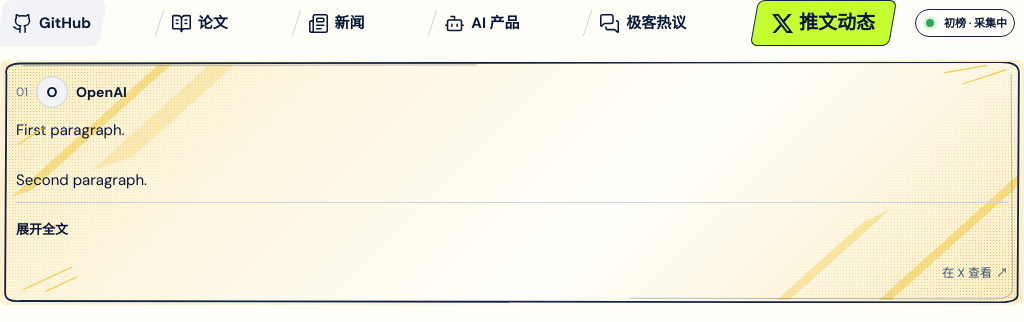
Test: mobile ranking reading › renders a tweet once as body text, with independent expand and original-link actions
The width and height of the screenshot is (1024, 322).
Expected: the number of elements with class "tweet-preview__text" is 1, [16, 120, 147, 190]
Expected: the header with class "tweet-preview__author" shows "OpenAI", [76, 82, 127, 100]
Click the button "展开全文": (42, 229) [16, 207, 68, 251]
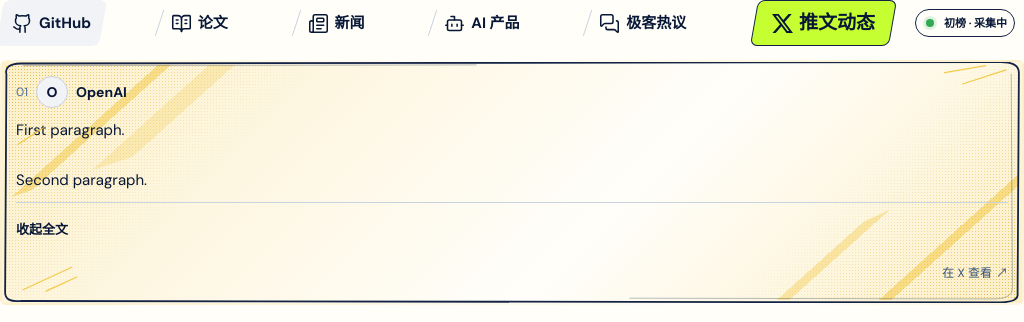
Expected: the button "收起全文" is expanded
Click the button "收起全文": (42, 229) [16, 207, 68, 251]
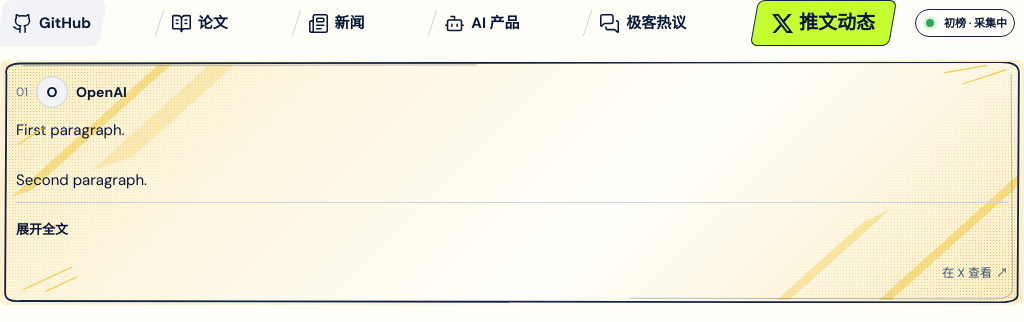
Expected: the button "展开全文" is collapsed, [16, 207, 68, 251]
